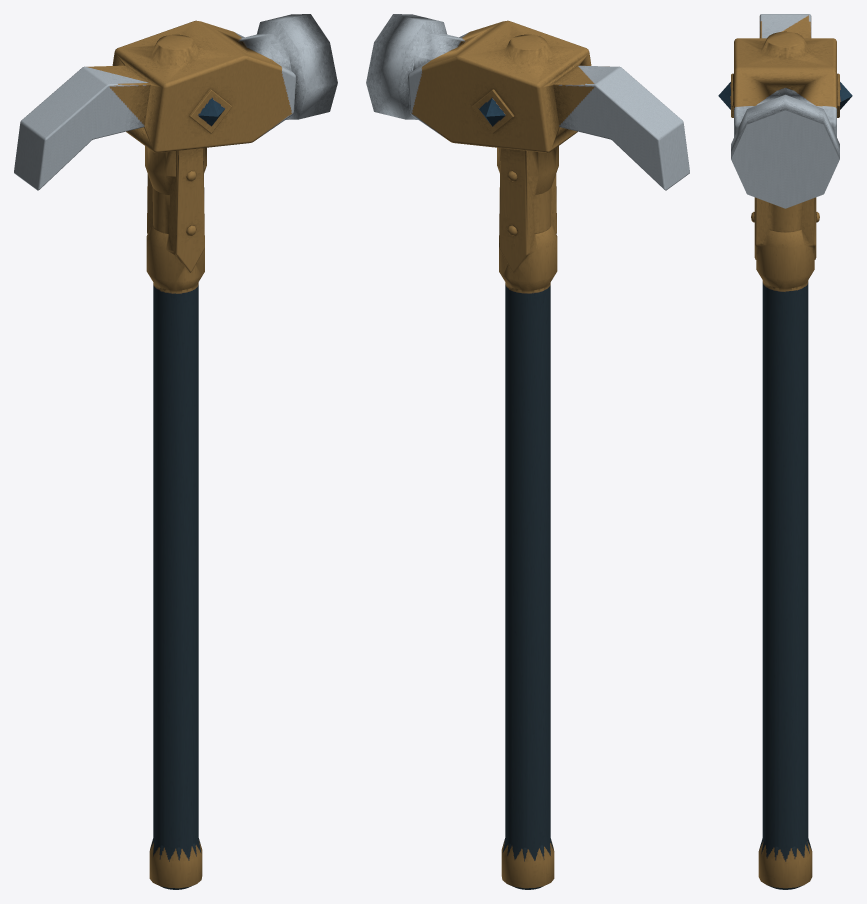
The model's file is warhammer-crafted.glb.
3 views of the same model, side by side, from view 1: azimuth 30°, elevation 25°; view 2: azimuth 150°, elevation 25°; view 3: azimuth 270°, elevation 25° (orthographic).
Visible parts, largest first — view 1: warhammer-crafted; view 2: warhammer-crafted; view 3: warhammer-crafted.
Part boxes in pixels (x1=…): warhammer-crafted: x1=14, y1=14, x2=337, y2=889; warhammer-crafted: x1=366, y1=14, x2=689, y2=889; warhammer-crafted: x1=718, y1=14, x2=852, y2=889.
Size of the model in its own units: 0.3337 by 0.94 by 0.136.
1 material, 1 textured.
